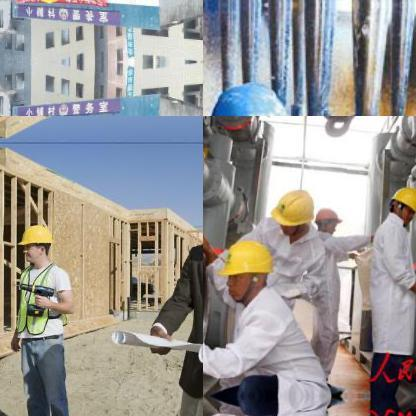Helmet: (203, 67, 299, 115), (218, 238, 272, 302), (268, 181, 318, 238), (15, 216, 57, 270), (386, 181, 415, 223), (312, 203, 340, 234)
